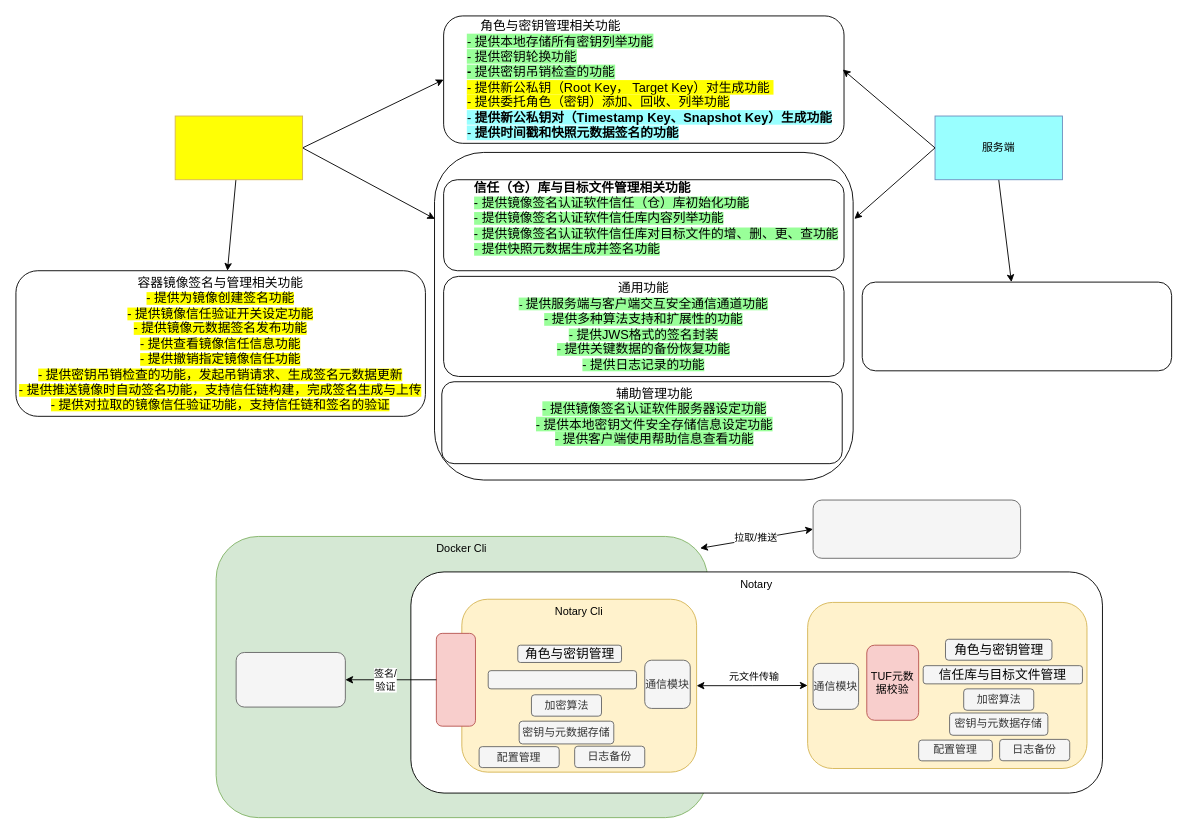
This 1188x834 diagram has some shape labels left out. Here are the shapes that lost their labels. From the top down, the box of each, then its label:
(174, 115, 303, 180): 客户端
(861, 281, 1172, 371): TUF元数据管理相关功能 - 提供元数据存储与更新的功能 - 提供目标文件元数据验证与冲突检测功能， 支持 对客户端提交的元数据进行格式、签名及版本的验证
(812, 499, 1021, 558): Docker Hub
(235, 652, 345, 707): Local Iamges
(435, 632, 475, 726): 容器镜像签名与管理
(487, 670, 637, 689): 信任仓库与目标文件管理
(807, 602, 1087, 768): Notary Server
